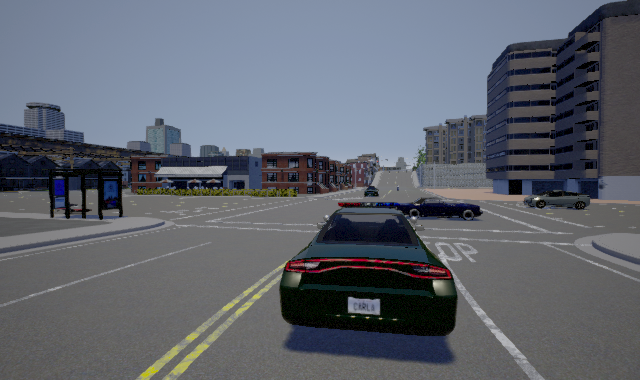vehicle: (279, 197, 454, 336), (399, 195, 484, 228), (523, 190, 590, 210), (361, 184, 383, 198)
